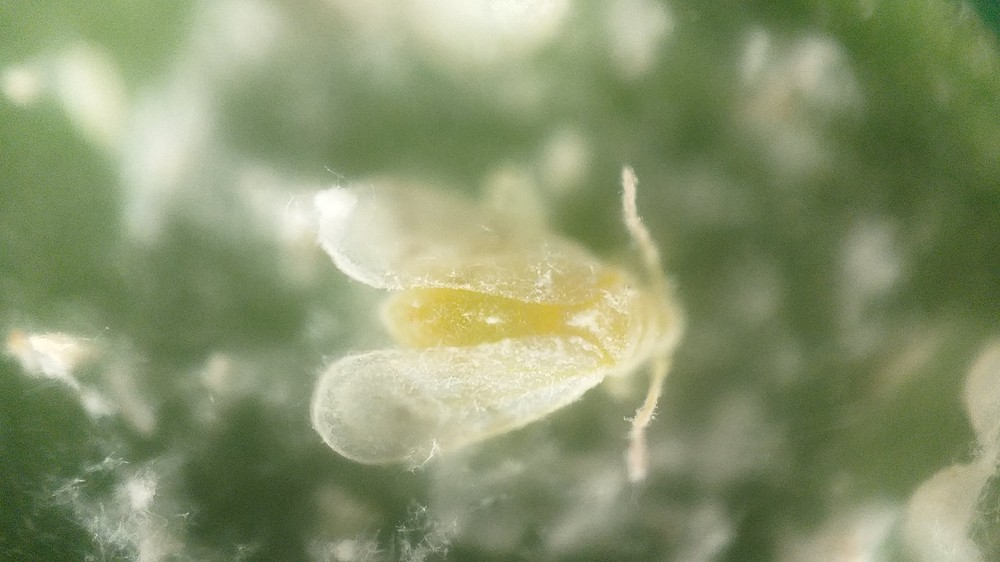Mosca Blanca: (289, 144, 719, 511)
